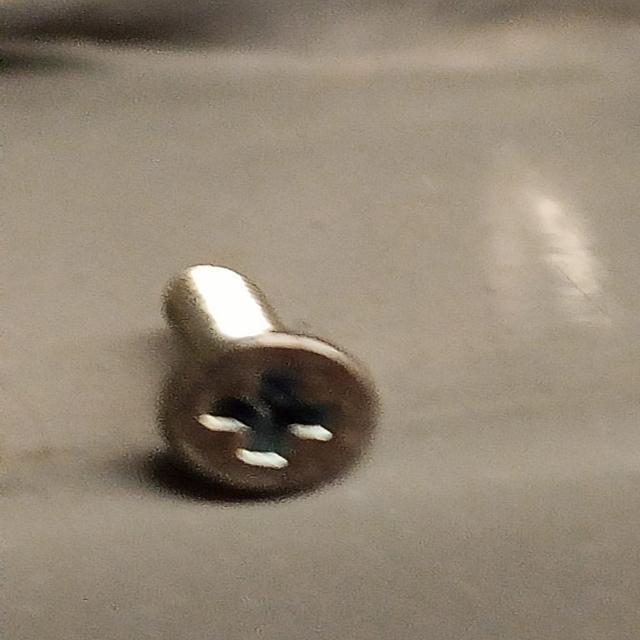phillips: (158, 332, 386, 499)
